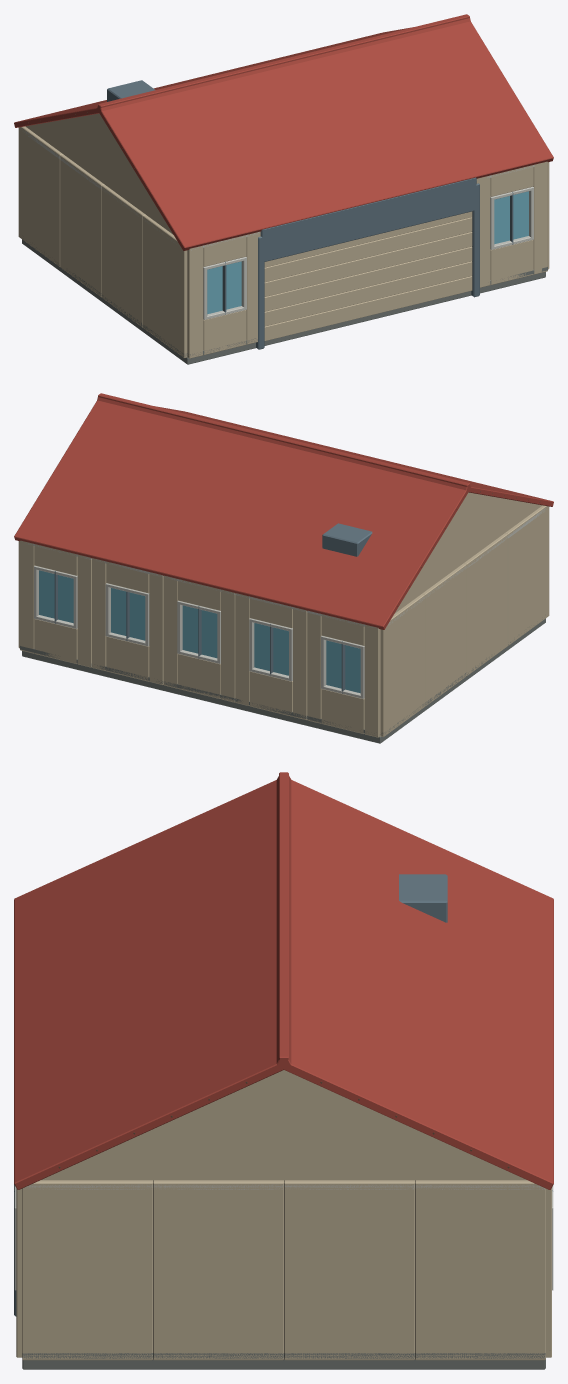
Rendered from architecture-workshop.lod0.glb.
3 views of the same model, one above another, from view 1: azimuth 30°, elevation 25°; view 2: azimuth 150°, elevation 25°; view 3: azimuth 270°, elevation 25° (orthographic). The views are drawn at different scales.
Parts seen in each view (by area): view 1: architecture-workshop__body, architecture-workshop__loading_door; view 2: architecture-workshop__body; view 3: architecture-workshop__body.
Boxes of the visible parts, box(x1,y1,x2,y2) form: architecture-workshop__body: box(14, 14, 553, 364); architecture-workshop__loading_door: box(264, 211, 472, 340); architecture-workshop__body: box(14, 393, 553, 743); architecture-workshop__body: box(14, 772, 553, 1369).
Bounding box in the file's own units: 10.31 × 5.35 × 8.25.
